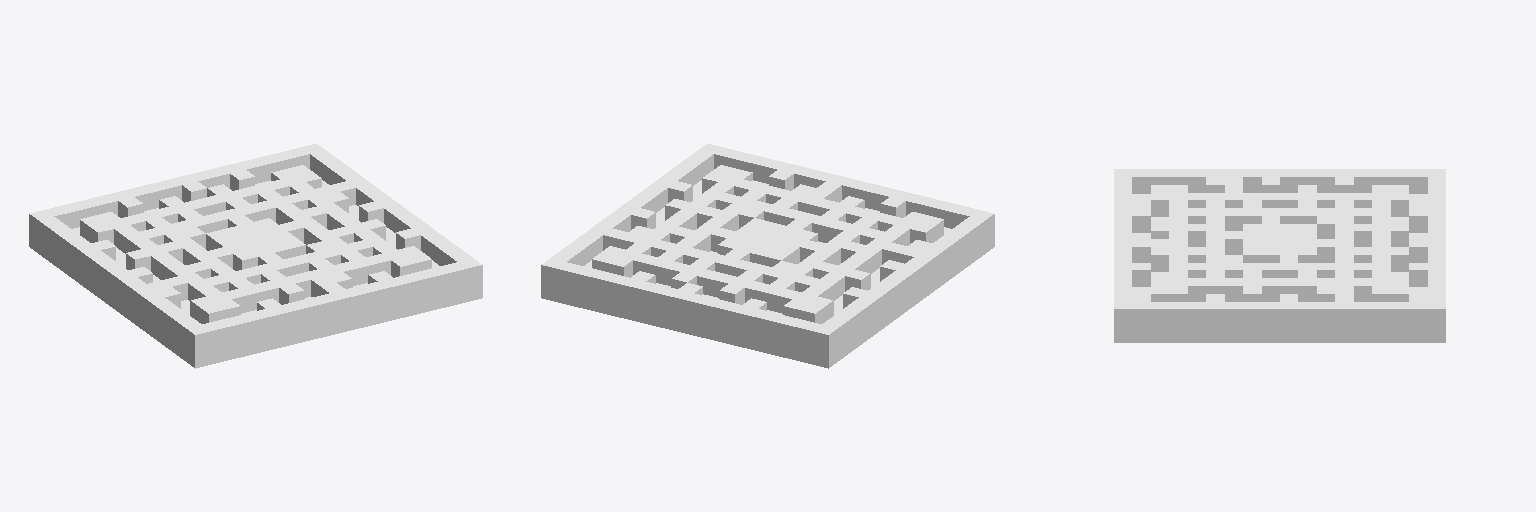
Rendered from FloorTile1.obj.
3 views of the same model, side by side, from view 1: azimuth 30°, elevation 25°; view 2: azimuth 150°, elevation 25°; view 3: azimuth 270°, elevation 25° (orthographic).
Visible parts, largest first — view 1: object 1; view 2: object 1; view 3: object 1.
Part boxes in pixels (x1,y1,x2,y2): object 1: (29,143,482,368); object 1: (541,143,994,368); object 1: (1114,169,1445,342).
Size of the model in its own units: 1.8 by 0.2 by 1.8.